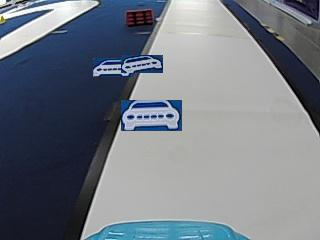bomb: (125, 7, 153, 25)
